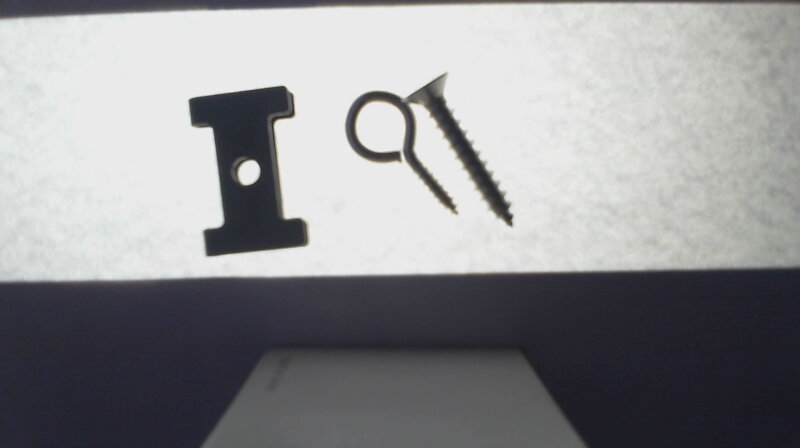O001: (344, 88, 464, 218)
O002: (185, 85, 311, 257)
S001: (402, 70, 516, 231)
